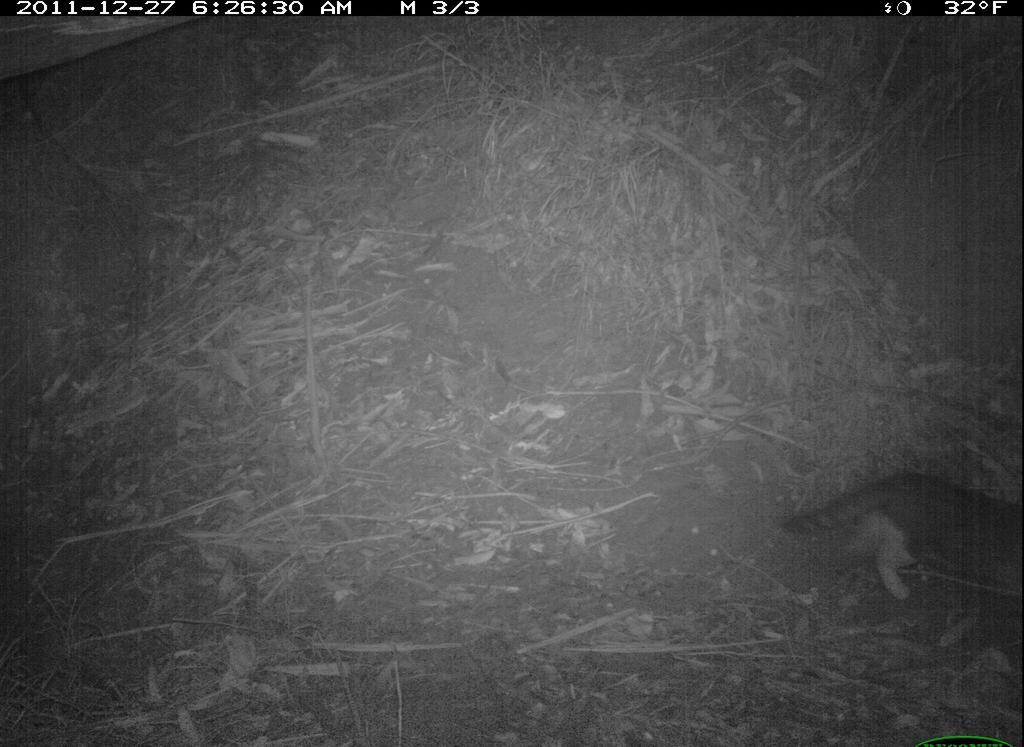cat: (779, 456, 1023, 642)
